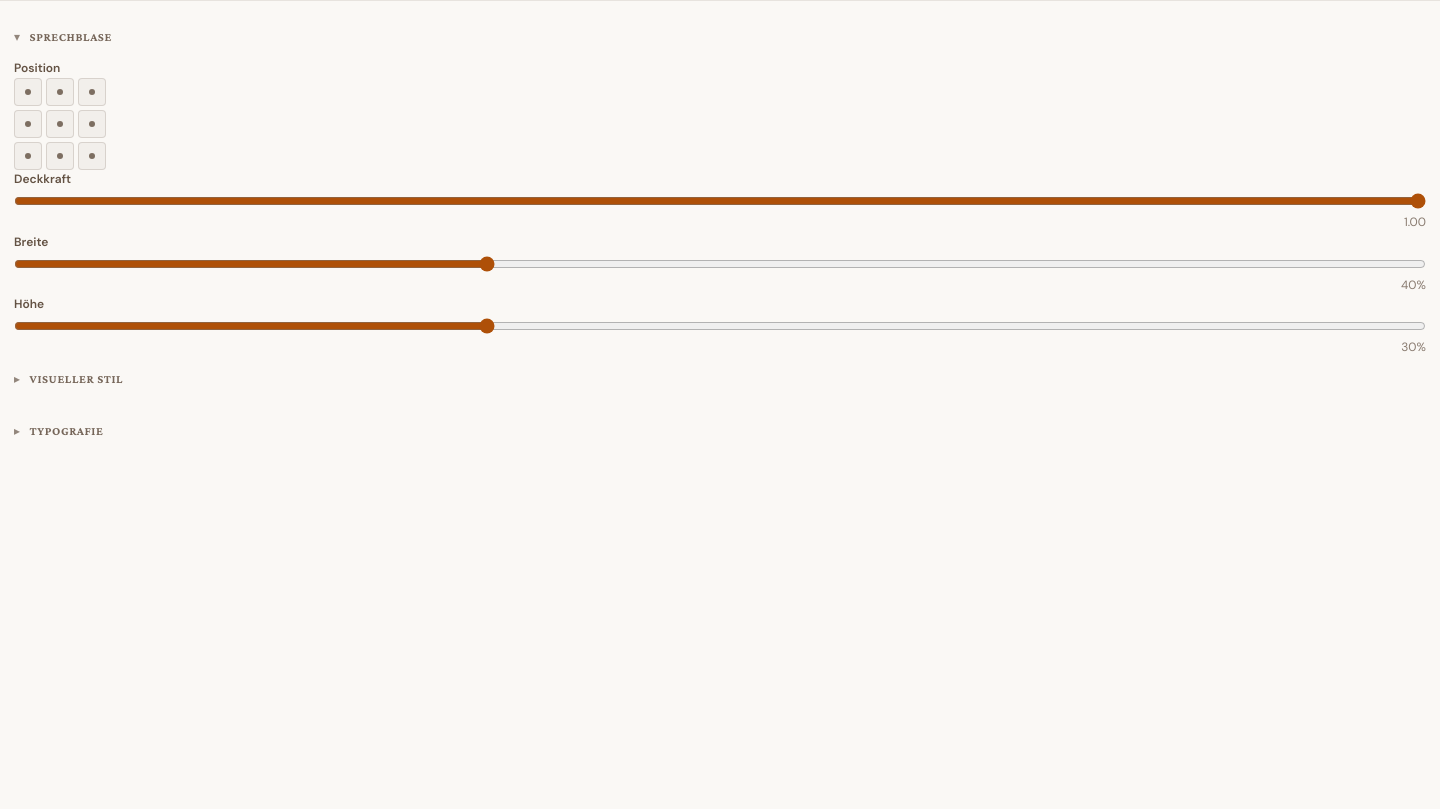
Test: LayoutConfigSpeechBubble - Tier 1 Visual Style (4c-B-2 C2) › Q3 (a): shadow_intensity slider is DISABLED when shadow is off
Click the button with test id "speech-bubble-tier1-trigger": click(69, 379) [14, 357, 123, 401]
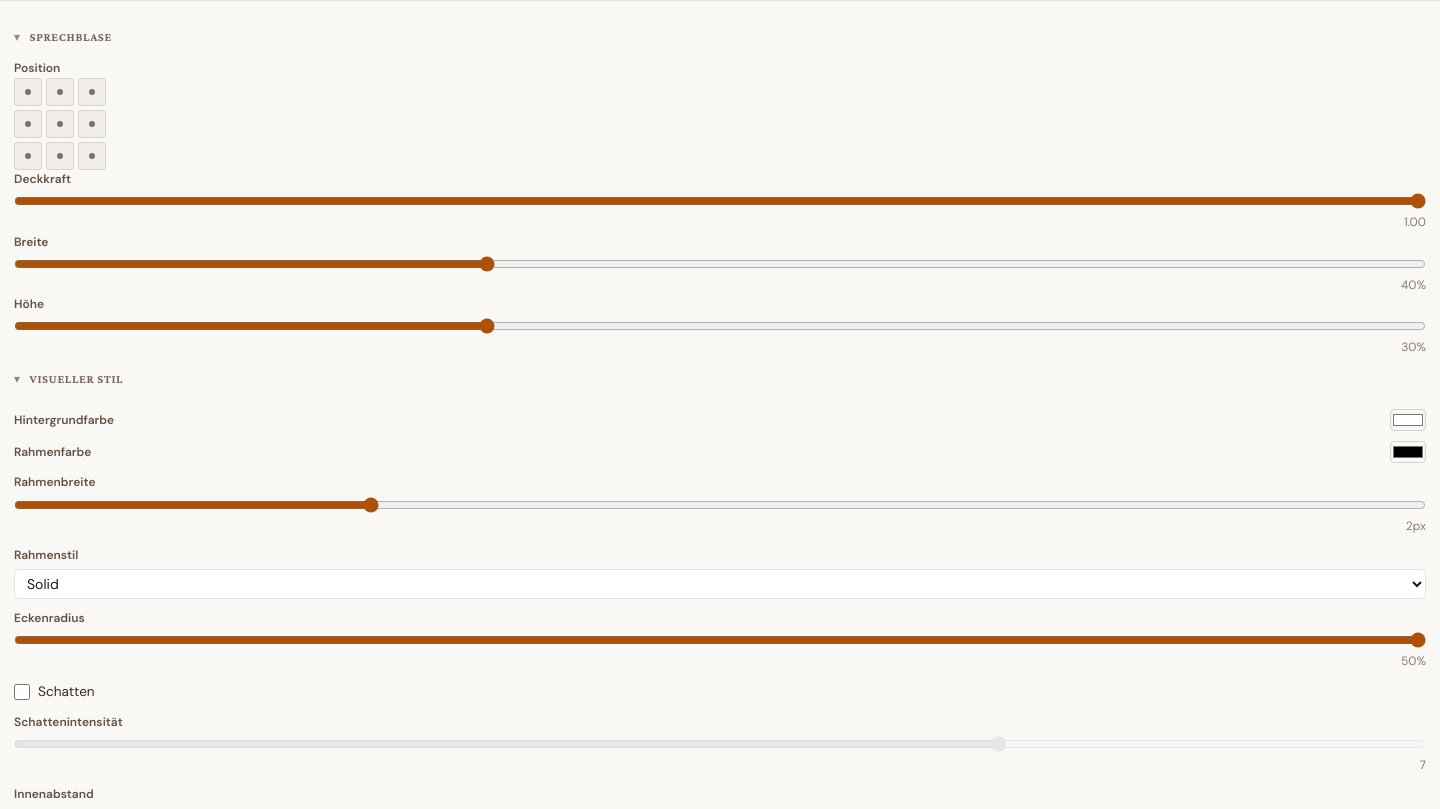
Expected: the slider with test id "speech-bubble-shadow-intensity-slider" is disabled, [14, 736, 1426, 752]
Expected: the text with test id "speech-bubble-shadow-intensity-value" reads "7", [1420, 757, 1426, 773]
